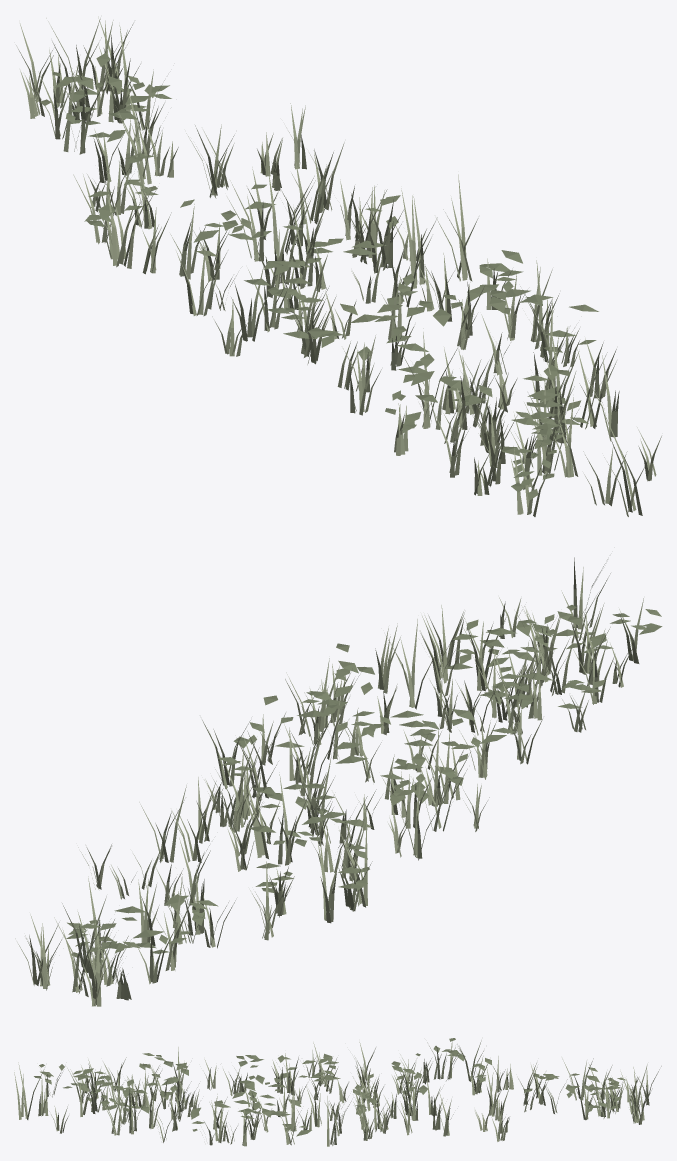
Rendered from AE_Encroachment_18.fbx.
3 renders of one model, top to bottom at view 1: azimuth 30°, elevation 25°; view 2: azimuth 150°, elevation 25°; view 3: azimuth 270°, elevation 25°, orthographic. The views are drawn at different scales.
Parts seen in each view (by area): view 1: AE_Encroachment_18_LOD0; view 2: AE_Encroachment_18_LOD0; view 3: AE_Encroachment_18_LOD0.
Boxes of the visible parts, bbox=[...] form: AE_Encroachment_18_LOD0: bbox=[16, 16, 661, 516]; AE_Encroachment_18_LOD0: bbox=[15, 557, 662, 1006]; AE_Encroachment_18_LOD0: bbox=[14, 1038, 661, 1146].
Size of what is drawn, in the model's own units: 331 by 105 by 1165.
